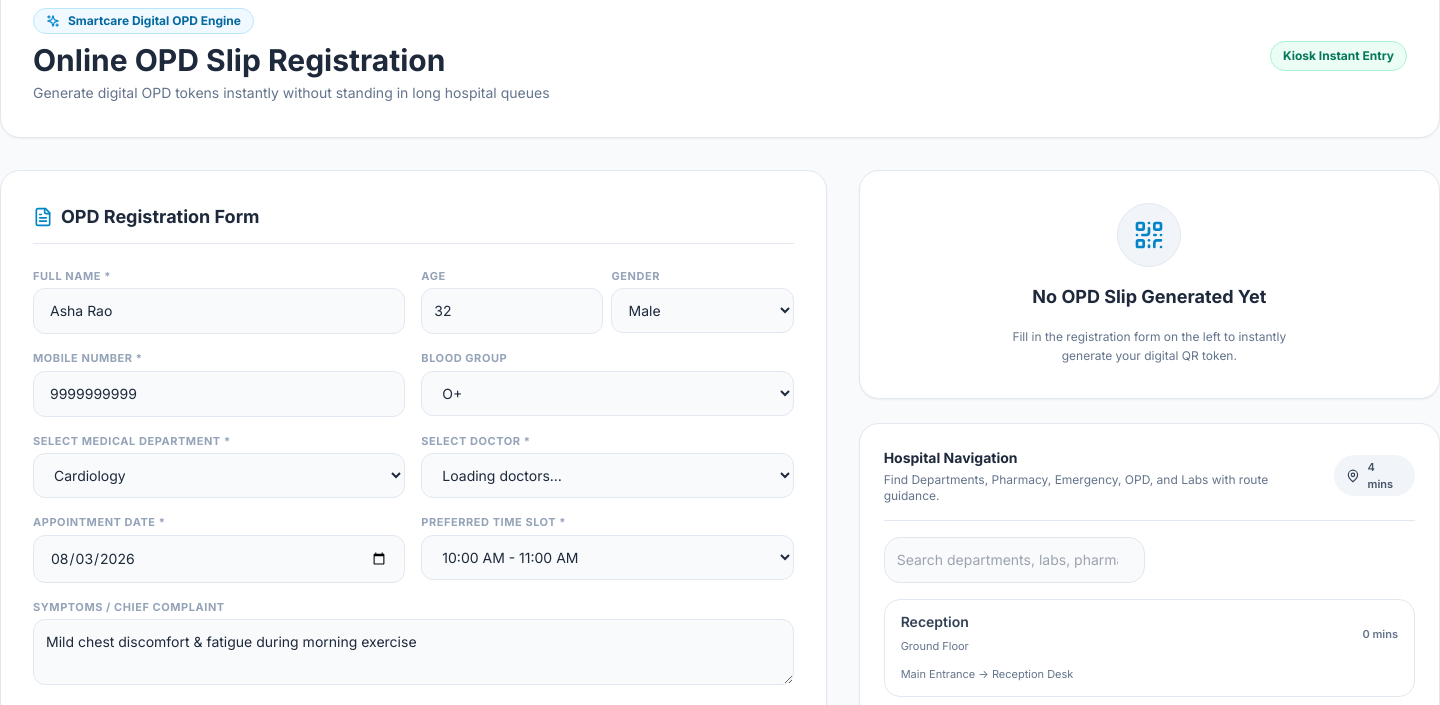
Scenario: OpdRegistration › suggests a department and urgency for symptoms before booking
The image size is (1440, 705).
Replace the text in the text box named "Describe your symptoms" with "Chest pain and breathing trouble after exercise" at [413, 652], box [33,619,794,685]
(page scrolled)
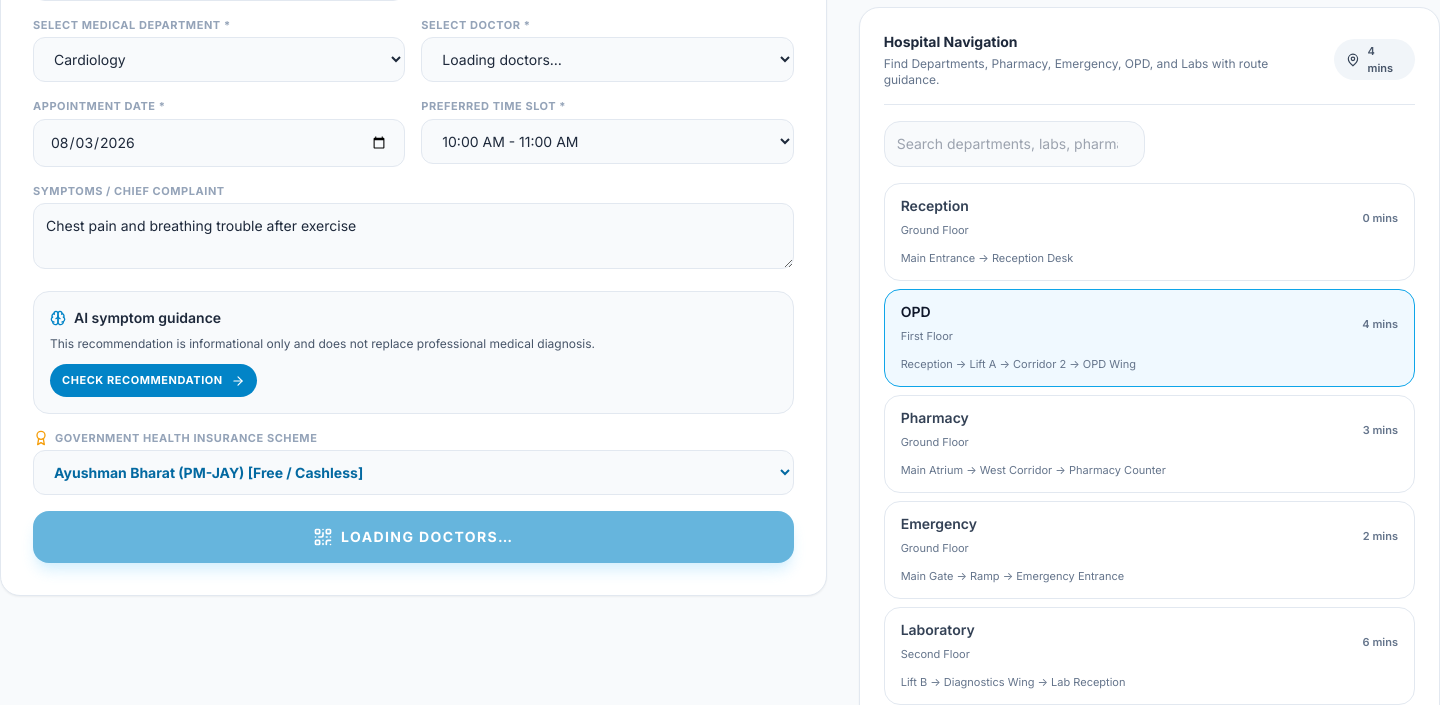
Click the button "Check recommendation" at [153, 381], box [50,364,257,397]
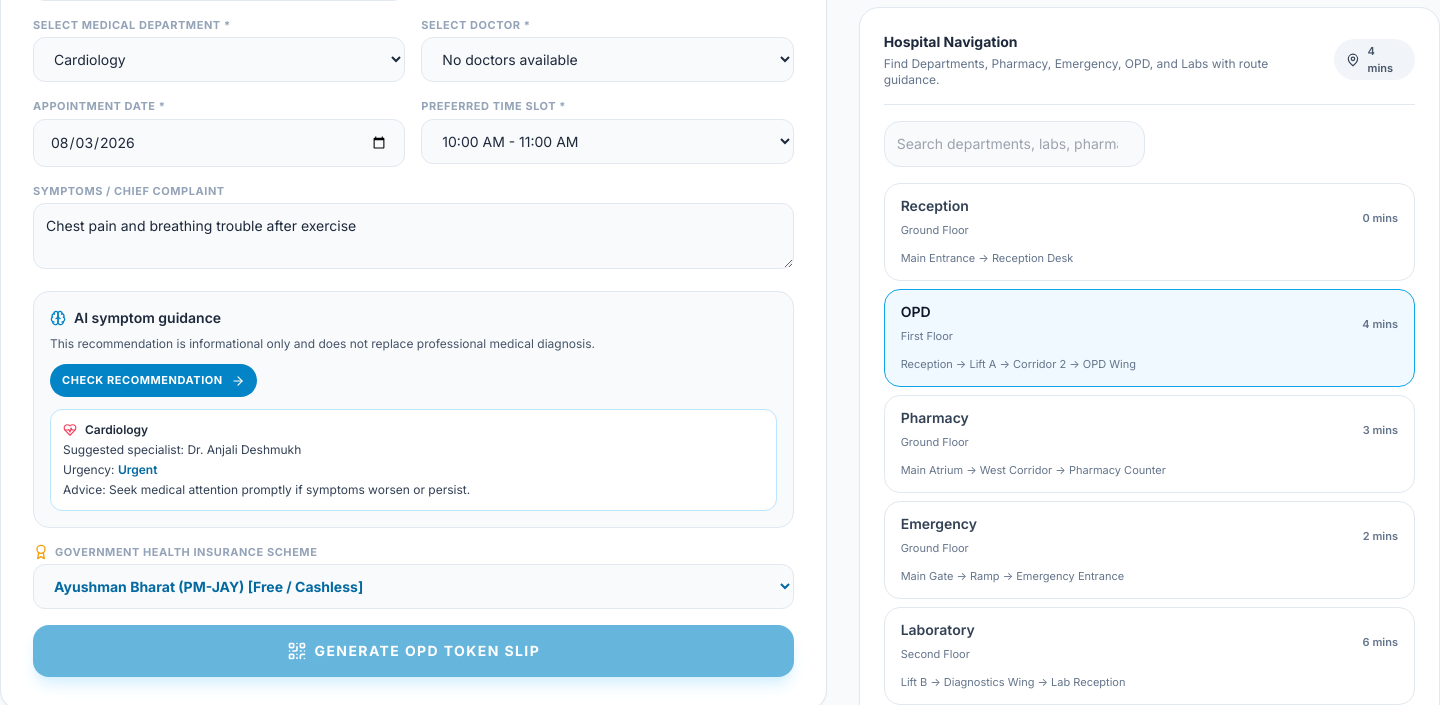
Check: the text "Suggested specialist:" shows "Cardiology", box [85,422,148,437]
Check: the text "Urgency: Urgent" is shown, box [63,462,157,477]
